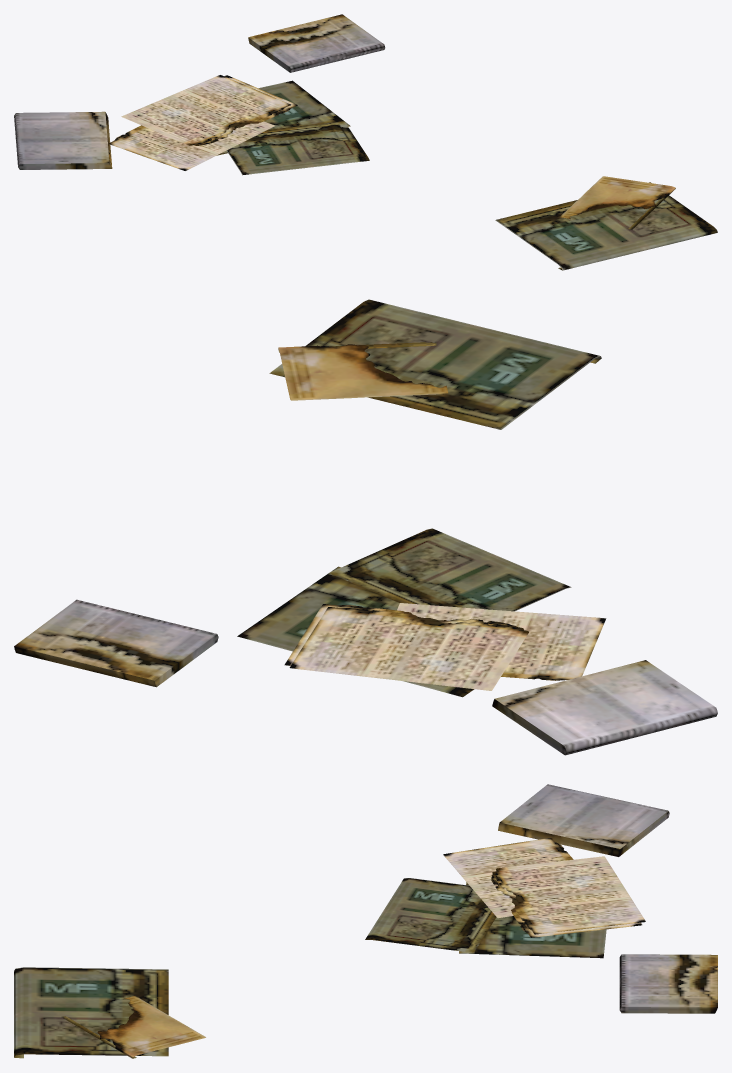
File: Paper_Pile06.FBX
The picture shows the model from 3 angles, top to bottom: view 1: azimuth 30°, elevation 25°; view 2: azimuth 150°, elevation 25°; view 3: azimuth 270°, elevation 25°; orthographic projection. The views are drawn at different scales.
Visible parts, largest first — view 1: Paper_Pile06; view 2: Paper_Pile06; view 3: Paper_Pile06.
Boxes of the visible parts, box(x1,y1,x2,y2) form: Paper_Pile06: box(14, 14, 717, 270); Paper_Pile06: box(14, 299, 717, 755); Paper_Pile06: box(14, 784, 717, 1058).
Size of the model in its own units: 1.15 by 0.0299 by 1.28.
